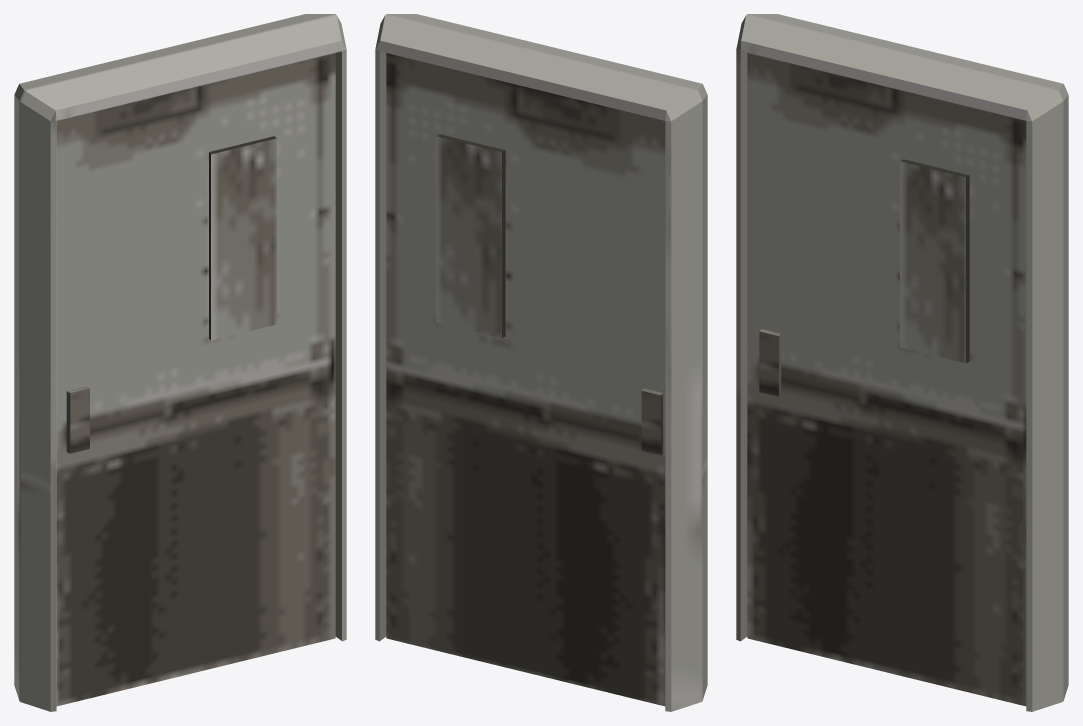
The model's file is LabDoor.fbx.
The picture shows the model from 3 angles, left to right: view 1: azimuth 30°, elevation 25°; view 2: azimuth 150°, elevation 25°; view 3: azimuth 330°, elevation 25°; orthographic projection.
Visible parts, largest first — view 1: LabDoor, LabDoorRestraint; view 2: LabDoor, LabDoorRestraint; view 3: LabDoor, LabDoorRestraint.
Part boxes in pixels (<box>): LabDoor: <box>56,53,335,706</box>; LabDoorRestraint: <box>14,14,346,711</box>; LabDoor: <box>386,53,665,706</box>; LabDoorRestraint: <box>375,14,707,711</box>; LabDoor: <box>747,53,1026,706</box>; LabDoorRestraint: <box>736,14,1068,711</box>.
Bounding box in the file's own units: 1.11 × 2.01 × 0.2249.
